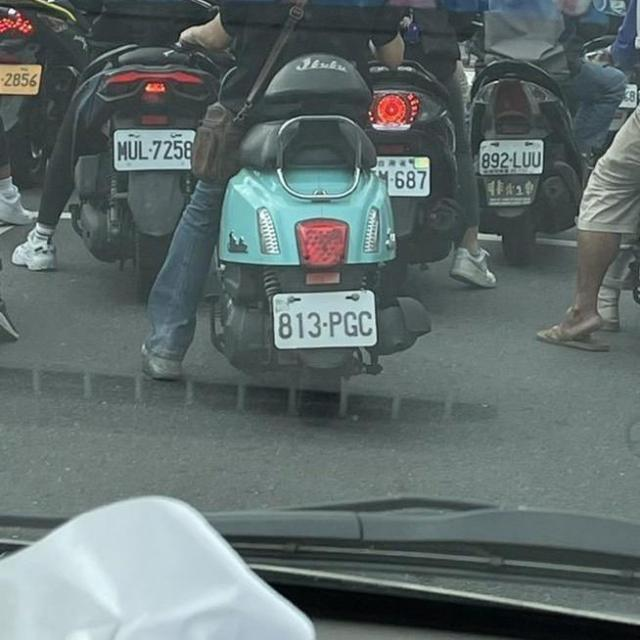W: (264, 287, 384, 352), (104, 123, 202, 175), (472, 134, 549, 181)
